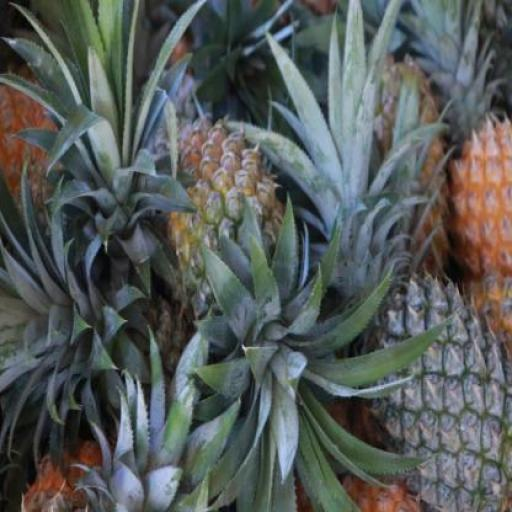------------------------------: (160, 118, 299, 328)
